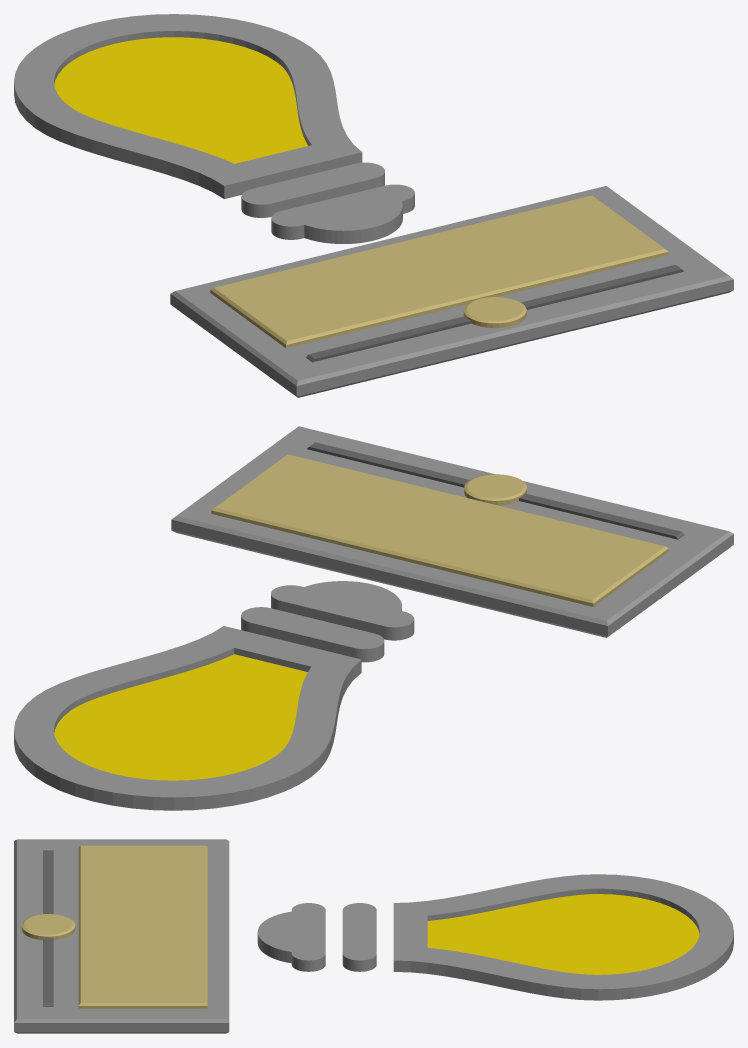
Rendered from Light Controller.fbx.
3 renders of one model, top to bottom at view 1: azimuth 30°, elevation 25°; view 2: azimuth 150°, elevation 25°; view 3: azimuth 270°, elevation 25°, orthographic. The views are drawn at different scales.
Visible parts, largest first — view 1: Light Controller, Cube, Controls panel, Light Indicator, Volume rail, Volume nub; view 2: Light Controller, Cube, Controls panel, Light Indicator, Volume rail, Volume nub; view 3: Light Controller, Cube, Controls panel, Light Indicator, Volume rail, Volume nub.
Boxes of the visible parts, x1,y1,x2,y2 form: Light Controller: (14,14,414,243); Cube: (210,195,668,348); Controls panel: (170,186,733,397); Light Indicator: (54,37,307,163); Volume rail: (306,265,683,362); Volume nub: (463,297,526,327); Light Controller: (14,581,414,810); Cube: (211,454,668,606); Controls panel: (171,426,733,637); Light Indicator: (54,654,307,780); Volume rail: (307,442,684,539); Volume nub: (464,474,526,505); Light Controller: (257,874,733,1000); Cube: (78,845,207,1008); Controls panel: (14,839,229,1033); Light Indicator: (427,894,699,974); Volume rail: (43,850,53,1006); Volume nub: (21,914,75,940).
Size of the model in its own units: 400 by 20 by 669.
